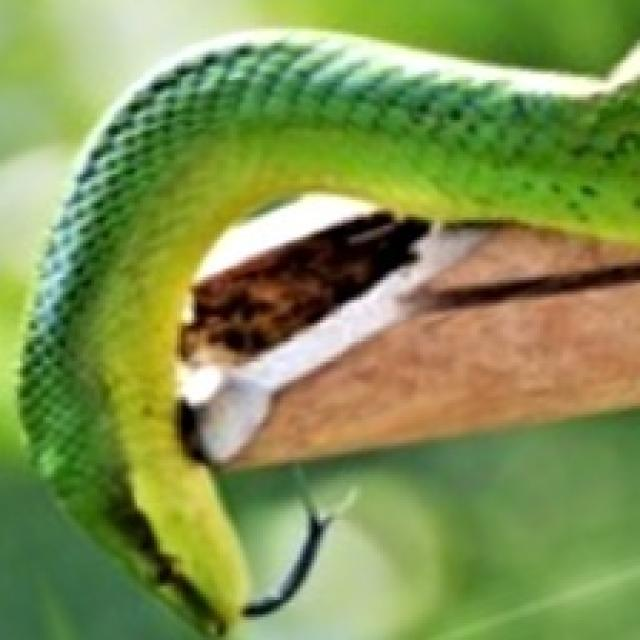red-tailed green ratsnake: (21, 32, 640, 629)
